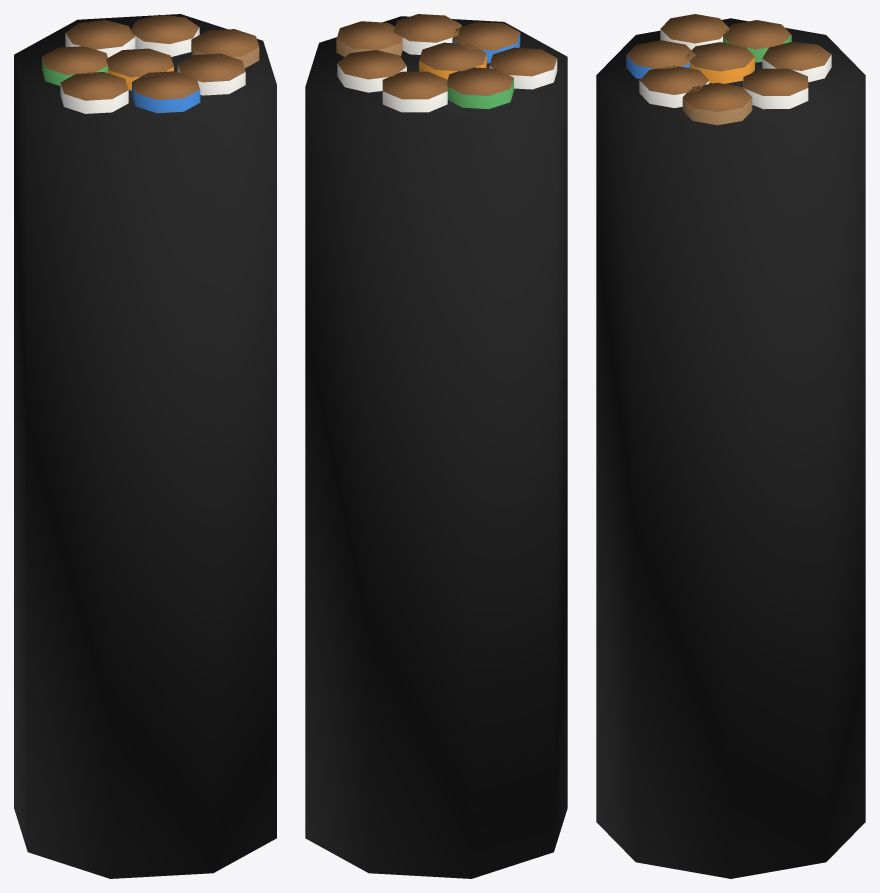
File: Completo.fbx
3 views of the same model, side by side, from view 1: azimuth 30°, elevation 25°; view 2: azimuth 150°, elevation 25°; view 3: azimuth 270°, elevation 25° (orthographic).
Parts seen in each view (by area): view 1: Cilindro, Blanco-Azul, Azul, Blanco-Naranja, Blanco-Cafe, Verde, Blanco-Verde, Cafe, Naranja; view 2: Cilindro, Blanco-Verde, Verde, Blanco-Naranja, Blanco-Azul, Blanco-Cafe, Cafe, Naranja, Azul; view 3: Cilindro, Cafe, Blanco-Naranja, Naranja, Blanco-Cafe, Blanco-Verde, Azul, Blanco-Azul, Verde.
Part boxes in pixels (x1,y1,x2,y2): Cilindro: [14, 14, 276, 878]; Blanco-Azul: [60, 72, 128, 113]; Azul: [132, 71, 200, 113]; Blanco-Naranja: [130, 14, 199, 56]; Blanco-Cafe: [177, 53, 245, 95]; Verde: [42, 46, 107, 85]; Blanco-Verde: [65, 20, 135, 57]; Cafe: [191, 29, 259, 68]; Naranja: [106, 48, 173, 90]; Cilindro: [305, 16, 567, 878]; Blanco-Verde: [382, 71, 447, 112]; Verde: [446, 67, 513, 108]; Blanco-Naranja: [337, 50, 406, 92]; Blanco-Azul: [489, 47, 557, 89]; Blanco-Cafe: [393, 14, 461, 54]; Cafe: [336, 21, 402, 56]; Naranja: [419, 42, 486, 79]; Azul: [452, 22, 520, 63]; Cilindro: [596, 18, 865, 878]; Cafe: [682, 82, 752, 125]; Blanco-Naranja: [743, 68, 808, 109]; Naranja: [685, 42, 754, 83]; Blanco-Cafe: [639, 65, 709, 107]; Blanco-Verde: [762, 41, 831, 82]; Azul: [626, 40, 695, 79]; Blanco-Azul: [660, 14, 729, 49]; Verde: [722, 20, 791, 62].
Bounding box in the file's own units: 65.37 × 204 × 65.37.
